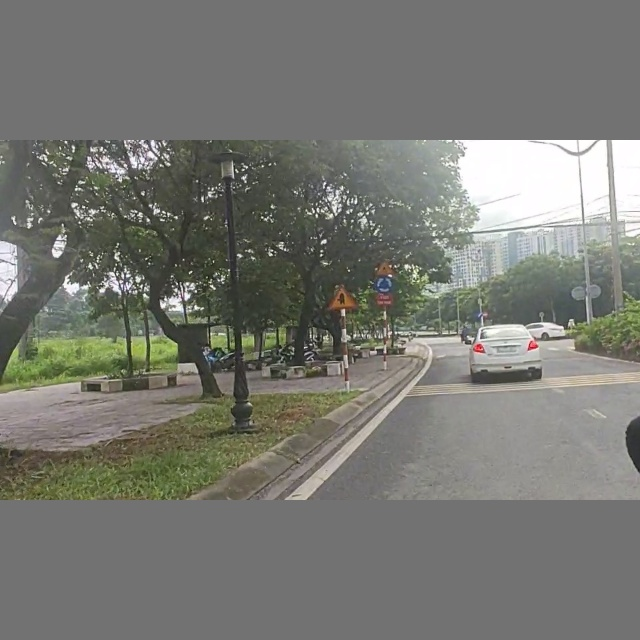P.102: (483, 311, 489, 318)
R.302a: (475, 311, 483, 319)
R.303: (373, 275, 395, 294)
W.207: (329, 285, 357, 311)
W.224: (373, 260, 397, 275)
